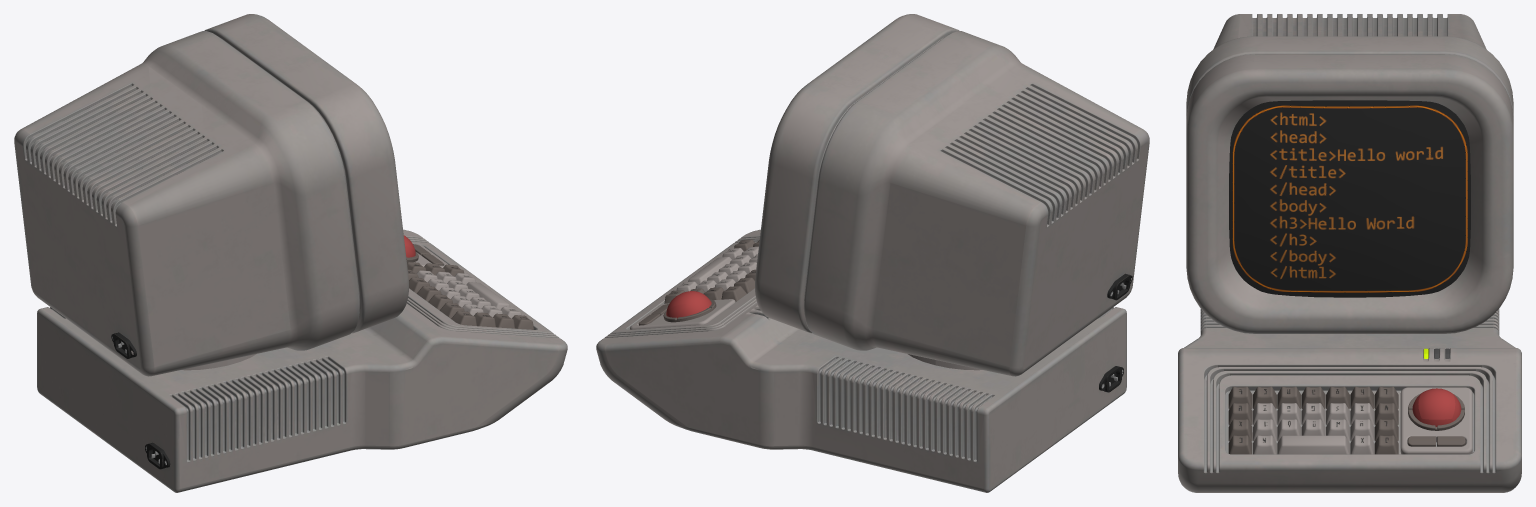
Rendered from retro-computer.gltf.
The picture shows the model from 3 angles, left to right: view 1: azimuth 30°, elevation 25°; view 2: azimuth 150°, elevation 25°; view 3: azimuth 270°, elevation 25°; orthographic projection. The views are drawn at different scales.
Parts seen in each view (by area): view 1: Part2, Part1; view 2: Part2, Part1; view 3: Part2, Part1.
Part boxes in pixels (x1,y1,x2,y2): Part2: (14, 14, 567, 492); Part1: (111, 235, 533, 469); Part2: (596, 14, 1149, 492); Part1: (630, 239, 1132, 392); Part2: (1178, 14, 1521, 492); Part1: (1228, 100, 1472, 454).
Bounding box in the file's own units: 0.02 × 0.0155 × 0.0132.
Materials: 2 (2 with a texture image).
